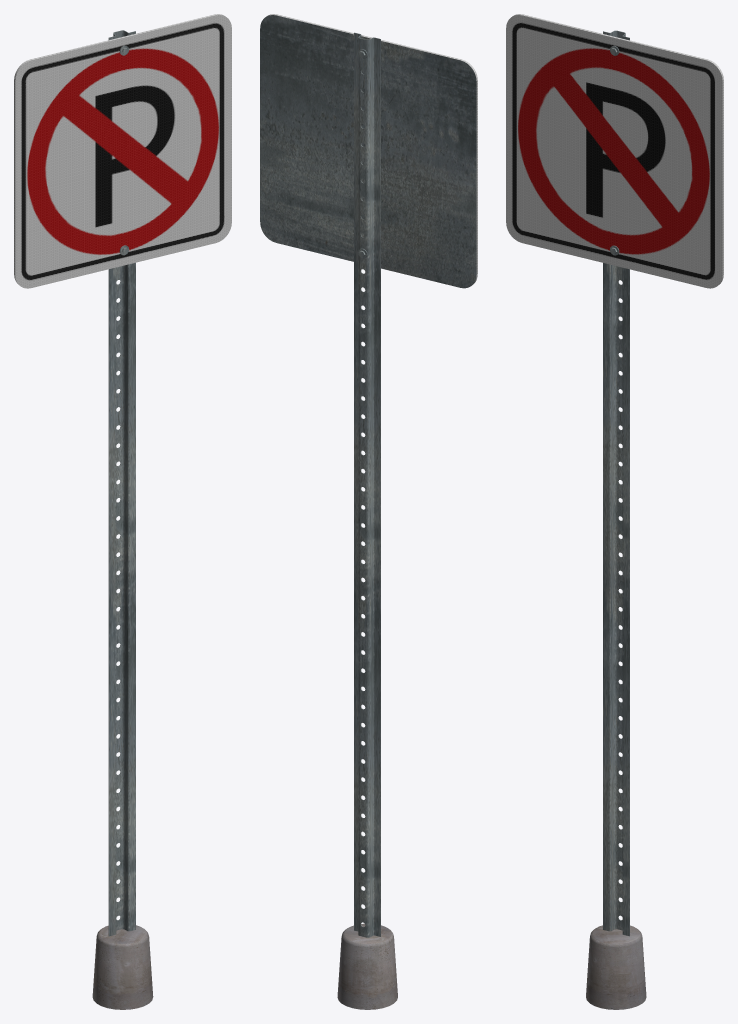
The model's file is noparking_nsoc.obj.
3 renders of one model, left to right at view 1: azimuth 30°, elevation 25°; view 2: azimuth 150°, elevation 25°; view 3: azimuth 330°, elevation 25°, orthographic.
Visible parts, largest first — view 1: sign_no_parking; view 2: sign_no_parking; view 3: sign_no_parking.
Part boxes in pixels (<box>): sign_no_parking: <box>14,14,231,1009</box>; sign_no_parking: <box>260,14,477,1009</box>; sign_no_parking: <box>506,14,723,1009</box>.
Bounding box in the file's own units: 24.09 × 102 × 5.84.
3 materials, 3 textured.
